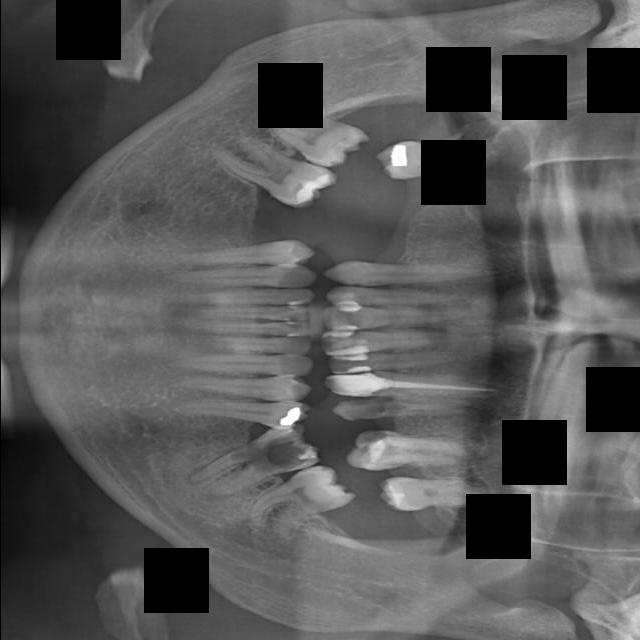3M ESPE Implant: (373, 139, 506, 183)
AGS Medikal Implant: (324, 344, 498, 375)
AMerOss Implant: (320, 371, 517, 397)
Amalgam filling: (329, 394, 479, 422)
Bicon Implant: (343, 425, 487, 473)
BioLife Implant: (373, 472, 498, 520)
Biomet 3i Implant: (239, 451, 361, 555)
Blue Sky Bio Implant: (176, 414, 325, 510)
Composite filling: (170, 401, 312, 428)
Cowellmedi Implant: (164, 376, 313, 401)
Crown: (161, 351, 315, 377)
DENTSPLY Implant: (182, 336, 313, 354)
Dentatus Implant: (195, 321, 309, 337)
Dentis Implant: (188, 304, 308, 321)
Dentium Implant: (171, 289, 317, 305)
Euroteknika Implant: (155, 265, 318, 288)
Filling: (167, 239, 320, 265)
Implant: (258, 166, 259, 166)
Keystone Dental Implant: (259, 85, 376, 184)
Maxilla: (321, 258, 516, 293)
Megagen Implant: (322, 285, 481, 309)
Neodent Implant: (319, 305, 499, 332)
Neoss Implant: (317, 317, 502, 357)
